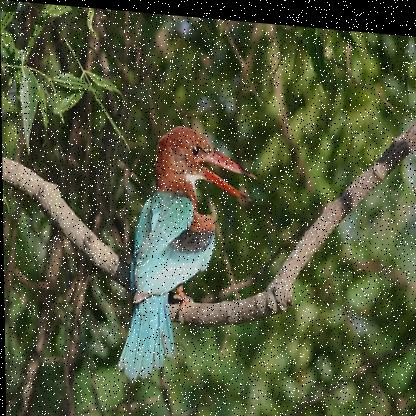Burung: (113, 117, 260, 389)
